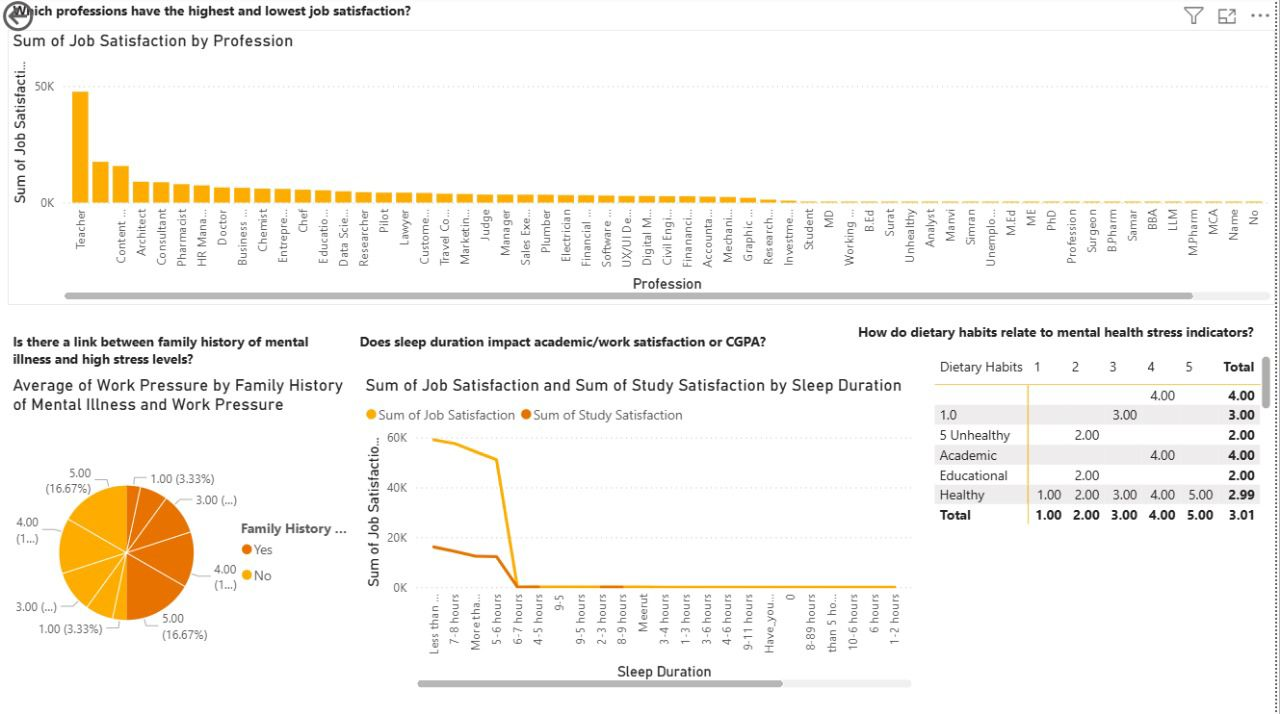

The page's visual inventory and layout, read from the dashboard file:
{"tool":"powerbi","page":{"name":"Page 2","canvas":[1280,720],"ordinal":1},"visuals":[{"type":"textbox","box":[9.7,0,465.7,33.8],"z":0},{"type":"columnChart","fields":{"Category":["test.Profession"],"Y":["test.Job Satisfaction"]},"box":[9.6,33.8,1270.4,276.3],"z":1000},{"type":"textbox","box":[9.7,331.8,347.5,48.3],"z":2000},{"type":"actionButton","box":[0,0,100,40],"z":3000},{"type":"pieChart","fields":{"Category":["test.Family History of Mental Illness"],"Series":["test.Work Pressure"],"Y":["test.Work Pressure"]},"box":[9.7,380,347.5,318.5],"z":4000},{"type":"textbox","box":[357.1,331.8,423.5,27.7],"z":5000},{"type":"lineChart","fields":{"Category":["test.Sleep Duration"],"Y":["test.Job Satisfaction","test.Study Satisfaction"]},"box":[363.1,380,557.4,318.5],"z":6000},{"type":"textbox","box":[856.6,322.1,423.5,33.8],"z":7000},{"type":"pivotTable","fields":{"Rows":["test.Dietary Habits"],"Columns":["test.Work Pressure"],"Values":["test.Work Pressure"]},"box":[933.8,355.9,346.2,178.6],"z":8000}]}

Visuals, with their boxes on the page's 1280x720 design canvas (x1, y1, x2, y2). These are canvas units, not pixel positions in the 1280x714 screenshot, which may show the page scaled, cropped or inside an application window:
textbox: (x1=10, y1=0, x2=475, y2=34)
columnChart - test.Profession x test.Job Satisfaction: (x1=10, y1=34, x2=1280, y2=310)
textbox: (x1=10, y1=332, x2=357, y2=380)
actionButton: (x1=0, y1=0, x2=100, y2=40)
pieChart - test.Family History of Mental Illness x test.Work Pressure: (x1=10, y1=380, x2=357, y2=698)
textbox: (x1=357, y1=332, x2=781, y2=360)
lineChart - test.Sleep Duration x test.Job Satisfaction: (x1=363, y1=380, x2=920, y2=698)
textbox: (x1=857, y1=322, x2=1280, y2=356)
pivotTable - test.Dietary Habits x test.Work Pressure: (x1=934, y1=356, x2=1280, y2=534)
